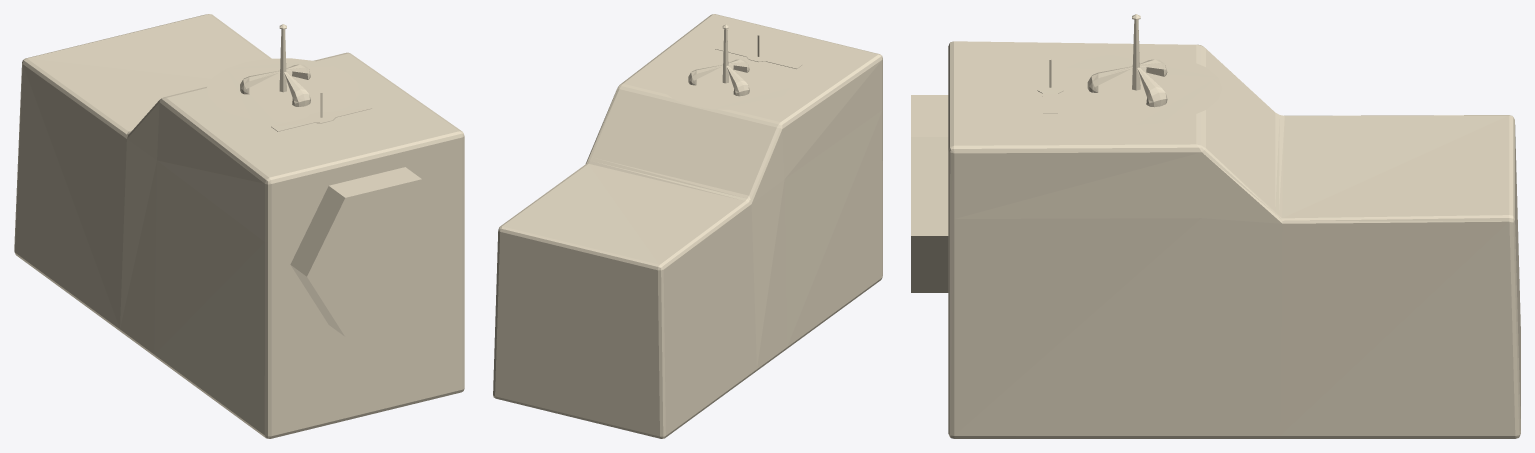
Rendered from calet.glb.
3 views of the same model, side by side, from view 1: azimuth 30°, elevation 25°; view 2: azimuth 150°, elevation 25°; view 3: azimuth 270°, elevation 25° (orthographic). The views are drawn at different scales.
Visible parts, largest first — view 1: JEM_EF_CALET; view 2: JEM_EF_CALET; view 3: JEM_EF_CALET.
Part boxes in pixels (x1,y1,x2,y2): JEM_EF_CALET: (14, 14, 464, 438); JEM_EF_CALET: (493, 14, 882, 438); JEM_EF_CALET: (911, 14, 1520, 438).
Size of the model in its own units: 0.0873 by 0.1388 by 0.2059.
